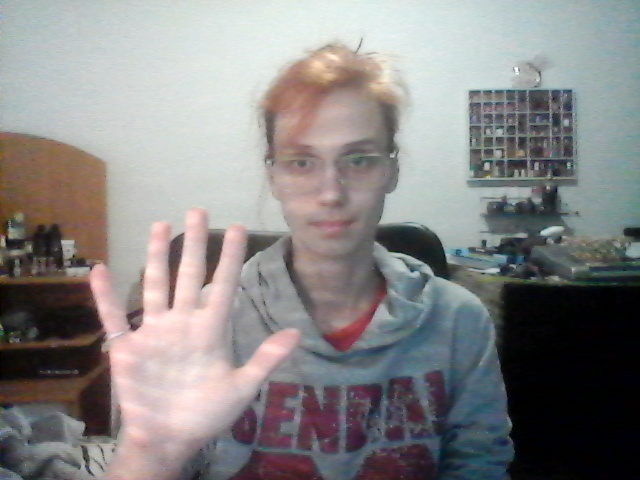ahoj: (61, 196, 309, 451)
